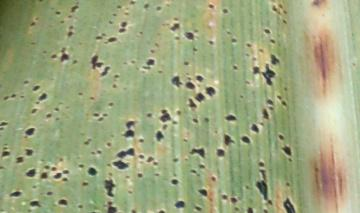tarspot: (256, 168, 268, 201), (262, 64, 276, 85), (116, 147, 136, 158), (283, 197, 295, 213), (190, 147, 205, 159), (91, 54, 103, 69), (105, 178, 114, 198), (112, 159, 129, 169), (160, 108, 171, 123), (223, 134, 235, 146), (281, 144, 293, 156), (100, 65, 111, 77), (172, 76, 183, 88), (205, 85, 216, 97), (271, 3, 282, 14), (87, 165, 98, 176), (25, 167, 36, 178), (187, 97, 197, 109), (184, 30, 194, 41), (240, 135, 251, 145), (198, 188, 208, 199), (122, 130, 135, 138), (156, 129, 164, 142), (14, 154, 24, 164), (195, 93, 205, 103), (250, 124, 260, 134), (261, 110, 271, 120), (270, 54, 280, 64), (170, 22, 181, 31), (224, 114, 238, 121), (30, 200, 42, 208), (194, 74, 204, 83), (126, 119, 135, 129), (146, 57, 156, 66), (251, 65, 261, 74), (175, 200, 185, 209), (185, 82, 196, 90), (60, 53, 69, 62), (54, 171, 63, 180), (40, 171, 49, 180), (25, 128, 35, 136), (107, 206, 118, 213), (57, 199, 68, 206), (39, 91, 47, 100), (216, 149, 224, 158), (276, 133, 285, 141), (107, 37, 118, 43), (10, 191, 21, 197), (71, 5, 79, 13), (146, 155, 154, 163), (120, 19, 128, 27), (190, 117, 199, 124), (313, 165, 320, 174), (30, 107, 38, 114), (1, 119, 8, 127), (25, 149, 33, 156), (53, 106, 61, 113), (231, 63, 239, 70), (258, 161, 266, 168), (280, 100, 288, 107), (1, 151, 10, 157), (92, 111, 101, 117), (266, 99, 275, 105), (45, 190, 54, 196), (50, 165, 57, 172), (198, 163, 205, 170), (45, 111, 52, 118), (155, 5, 162, 12), (282, 85, 289, 92), (269, 38, 276, 45), (82, 140, 90, 146), (221, 8, 229, 14), (244, 80, 252, 86), (263, 28, 271, 34), (230, 197, 238, 203), (221, 194, 229, 200), (195, 206, 203, 212), (171, 180, 179, 186), (118, 28, 127, 33), (142, 65, 151, 70), (50, 53, 57, 59), (43, 164, 50, 170), (96, 149, 103, 155), (172, 157, 179, 163), (113, 73, 120, 79), (192, 46, 199, 52), (208, 40, 215, 46), (259, 47, 265, 54), (285, 181, 291, 188), (246, 207, 253, 213), (126, 189, 133, 195), (81, 181, 88, 187), (107, 170, 113, 177), (32, 85, 40, 90), (161, 22, 169, 27), (62, 169, 70, 174), (68, 24, 74, 30), (3, 95, 9, 101), (78, 163, 84, 169), (146, 112, 152, 118), (174, 35, 180, 41), (173, 16, 179, 22), (143, 3, 149, 9), (150, 48, 156, 54), (130, 59, 136, 65), (287, 157, 293, 163), (244, 52, 250, 58), (278, 3, 284, 9), (234, 206, 240, 212), (62, 177, 68, 183), (65, 104, 71, 110), (30, 22, 37, 27), (30, 41, 37, 46), (55, 10, 62, 15), (41, 50, 48, 55), (163, 124, 168, 131), (171, 120, 178, 125), (204, 116, 209, 123), (187, 75, 192, 82), (107, 102, 114, 107), (77, 91, 84, 96), (208, 4, 215, 9), (226, 31, 233, 36), (137, 139, 145, 143), (96, 36, 104, 40), (158, 209, 166, 213), (130, 209, 138, 213), (34, 16, 40, 21), (67, 14, 73, 19), (67, 31, 73, 36), (60, 47, 65, 53), (35, 101, 41, 106), (19, 94, 25, 99), (58, 157, 64, 162), (90, 150, 96, 155), (106, 162, 111, 168), (139, 154, 145, 159), (153, 161, 159, 166), (190, 168, 196, 173), (183, 138, 189, 143), (106, 142, 112, 147), (97, 117, 103, 122), (103, 113, 109, 118), (111, 84, 117, 89), (116, 4, 122, 9), (158, 69, 164, 74), (123, 60, 128, 66), (213, 130, 219, 135), (277, 95, 283, 100), (251, 56, 257, 61), (231, 38, 237, 43), (246, 43, 252, 48), (281, 19, 287, 24), (283, 10, 288, 16), (268, 200, 273, 206), (211, 176, 217, 181), (137, 172, 143, 177), (107, 200, 113, 205), (27, 207, 32, 213), (32, 183, 37, 189), (165, 2, 171, 7), (267, 107, 274, 111), (153, 172, 160, 176), (60, 20, 65, 25), (72, 59, 77, 64), (11, 93, 16, 98), (184, 157, 189, 162), (177, 111, 182, 116), (194, 28, 199, 33), (109, 20, 114, 25), (139, 31, 144, 36), (239, 94, 244, 99), (196, 172, 201, 177), (78, 204, 83, 209), (23, 80, 29, 84), (3, 146, 9, 150), (3, 142, 9, 146), (55, 117, 61, 121), (130, 1, 136, 5), (124, 12, 130, 16), (245, 184, 249, 190), (263, 209, 269, 213), (125, 175, 131, 179), (109, 134, 115, 138), (1, 165, 5, 170), (90, 96, 95, 100), (184, 62, 189, 66), (112, 13, 117, 17), (102, 33, 107, 37), (260, 122, 265, 126), (1, 208, 5, 213), (174, 172, 177, 178), (1, 127, 5, 131), (155, 43, 159, 47), (39, 1, 44, 3)
